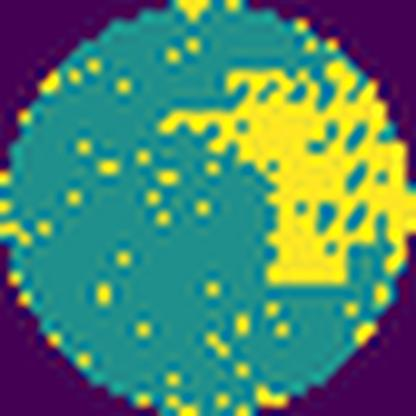Loc: (158, 68, 416, 288)
